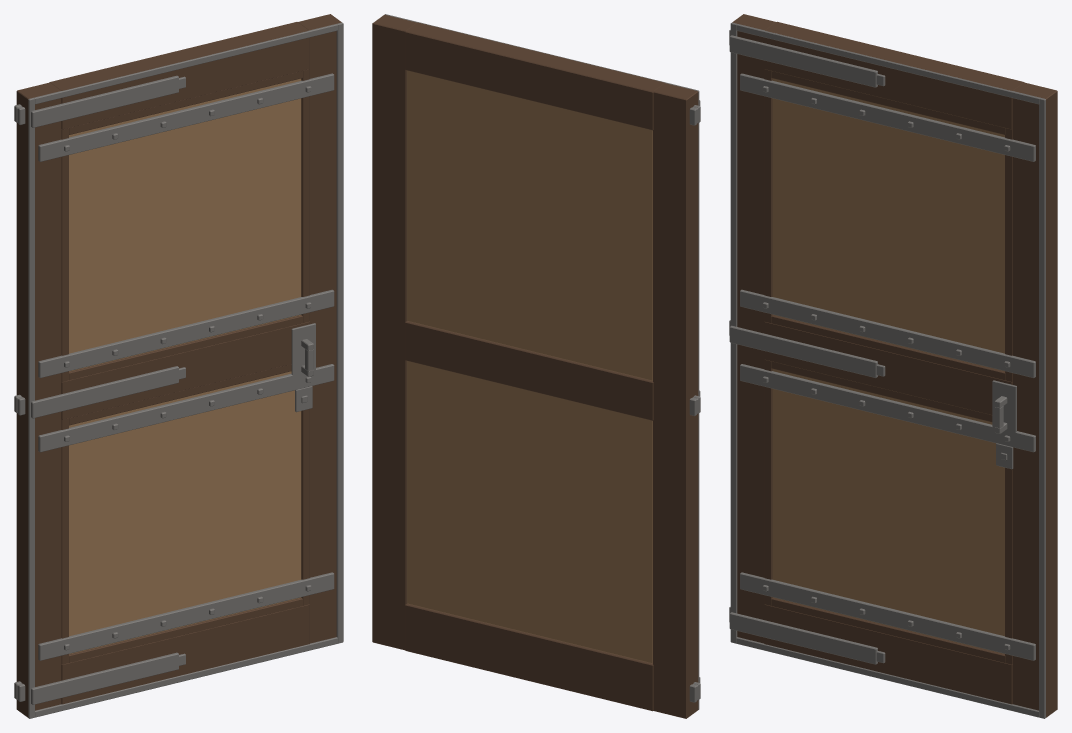
File: door_sturdy.glb
3 views of the same model, side by side, from view 1: azimuth 30°, elevation 25°; view 2: azimuth 150°, elevation 25°; view 3: azimuth 330°, elevation 25° (orthographic).
Parts seen in each view (by area): view 1: door_sturdy; view 2: door_sturdy; view 3: door_sturdy.
Boxes of the visible parts, x1,y1,x2,y2 form: door_sturdy: [14, 14, 343, 718]; door_sturdy: [372, 14, 700, 718]; door_sturdy: [729, 14, 1057, 718].
Size of the model in its own units: 1.04 by 1.92 by 0.1175.
